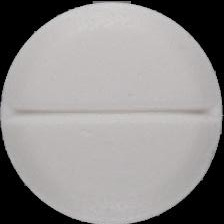0185-0210: (0, 0, 224, 224)
